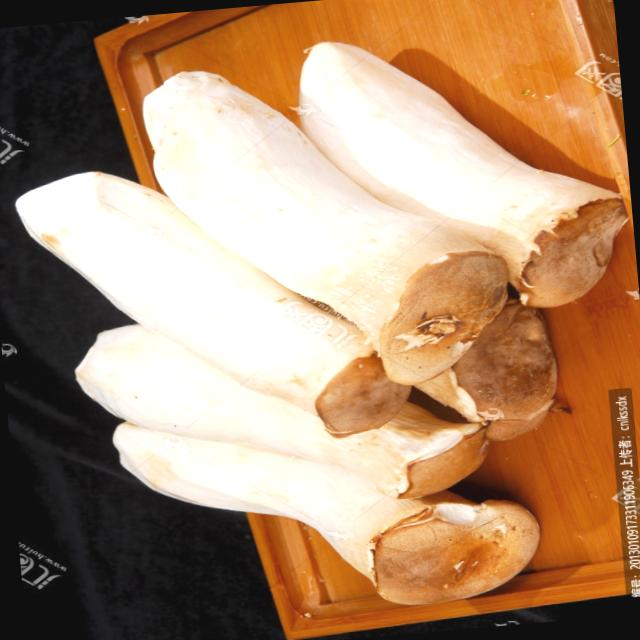Pleurotus eryngii: (135, 6, 506, 408), (36, 387, 526, 638), (298, 8, 624, 323)
